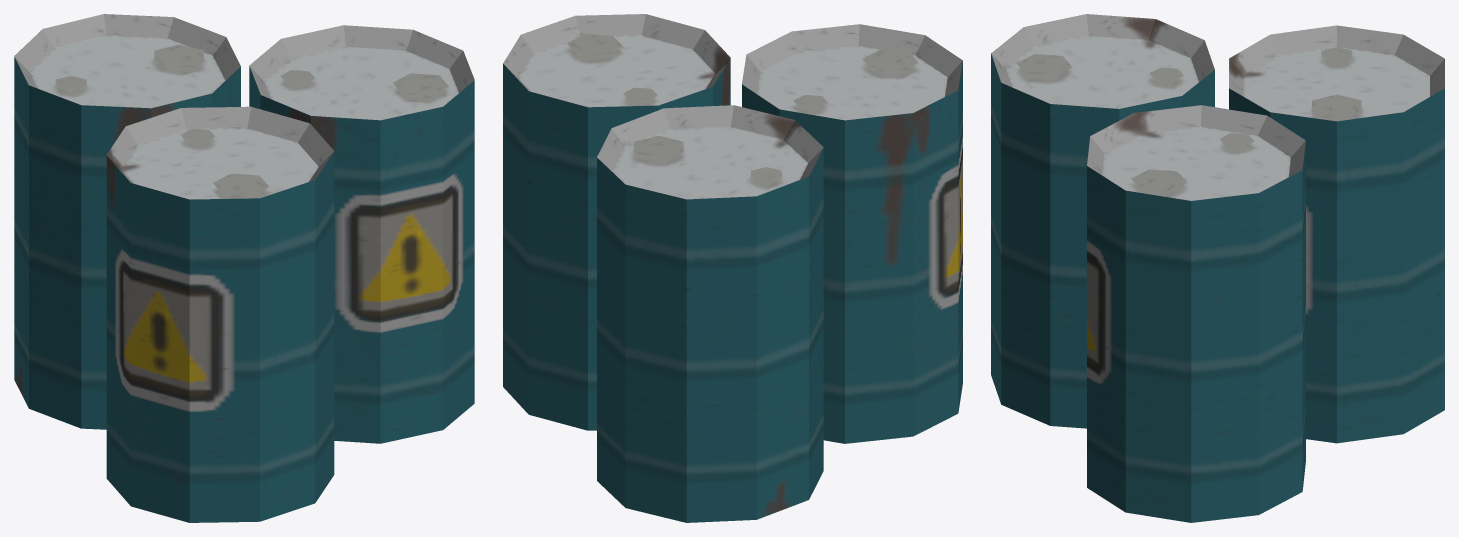
Rendered from SM_OilDrums.glb.
3 renders of one model, left to right at view 1: azimuth 30°, elevation 25°; view 2: azimuth 150°, elevation 25°; view 3: azimuth 270°, elevation 25°, orthographic.
Parts seen in each view (by area): view 1: SM_OilDrums; view 2: SM_OilDrums; view 3: SM_OilDrums.
Boxes of the visible parts, x1,y1,x2,y2 form: SM_OilDrums: (14,14,474,522); SM_OilDrums: (503,14,962,522); SM_OilDrums: (991,14,1444,522).
Bounding box in the file's own units: 37.35 × 30 × 38.31.
Materials: 1 (1 with a texture image).
